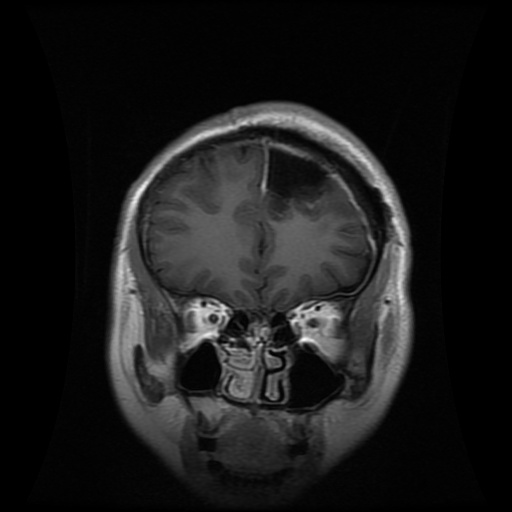glioma: (261, 147, 330, 220)
